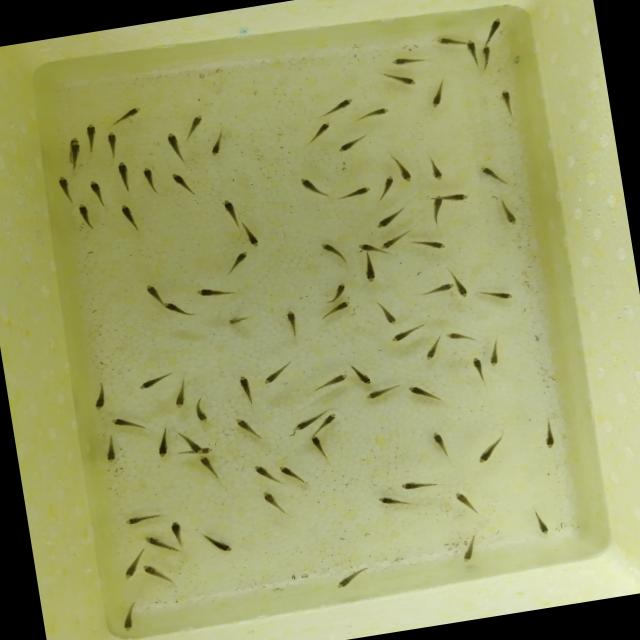fingerling: (404, 378, 442, 408), (333, 562, 372, 591), (296, 172, 331, 204), (118, 508, 168, 530), (168, 169, 198, 204), (375, 203, 414, 229), (259, 360, 295, 388), (194, 280, 239, 302), (162, 298, 198, 325), (474, 435, 506, 465), (380, 68, 420, 92), (352, 104, 399, 124), (318, 238, 348, 269), (201, 529, 234, 557), (85, 174, 112, 208), (136, 368, 174, 392), (411, 232, 449, 256), (388, 48, 429, 70), (388, 322, 427, 345), (223, 250, 255, 278), (452, 487, 480, 519), (374, 295, 400, 329), (337, 181, 375, 204), (456, 533, 484, 564), (530, 504, 554, 540), (72, 200, 98, 233), (233, 413, 262, 442), (142, 560, 172, 588), (374, 491, 414, 512), (182, 110, 210, 140), (258, 488, 286, 518), (478, 160, 508, 188), (106, 410, 144, 432), (365, 382, 403, 404), (482, 14, 508, 46), (319, 300, 355, 323), (120, 203, 145, 236), (495, 195, 520, 228), (334, 134, 371, 156), (142, 531, 171, 559), (162, 131, 185, 166), (433, 28, 468, 51), (398, 475, 440, 494), (116, 552, 144, 580), (111, 105, 145, 128), (152, 426, 174, 461), (234, 372, 256, 407), (54, 173, 77, 206), (138, 278, 165, 306), (442, 327, 478, 348), (251, 460, 280, 486), (178, 429, 204, 458), (278, 459, 308, 484), (89, 378, 111, 412), (117, 602, 141, 633), (190, 394, 213, 426), (451, 268, 474, 300), (99, 434, 122, 466), (306, 118, 334, 144), (115, 160, 137, 193), (484, 337, 506, 370), (394, 152, 416, 185), (374, 173, 399, 202), (428, 426, 452, 456), (378, 229, 412, 250), (84, 121, 105, 155), (467, 354, 489, 386), (320, 370, 350, 393), (538, 419, 560, 450), (220, 194, 240, 228), (480, 285, 514, 305), (347, 363, 374, 388), (323, 96, 355, 117), (198, 454, 222, 482), (418, 280, 455, 298), (427, 79, 449, 109), (206, 129, 228, 159), (106, 130, 128, 160), (478, 43, 502, 70), (362, 252, 381, 286), (241, 223, 264, 251), (282, 308, 302, 340), (495, 87, 517, 116), (139, 164, 160, 194), (306, 432, 329, 459), (169, 381, 190, 410), (443, 187, 475, 206), (426, 194, 446, 224), (65, 140, 85, 170), (166, 516, 186, 546), (425, 156, 446, 184), (288, 415, 320, 433), (224, 310, 254, 328), (421, 338, 443, 362), (326, 280, 350, 302), (320, 410, 344, 428), (466, 39, 482, 66), (358, 238, 380, 254)
